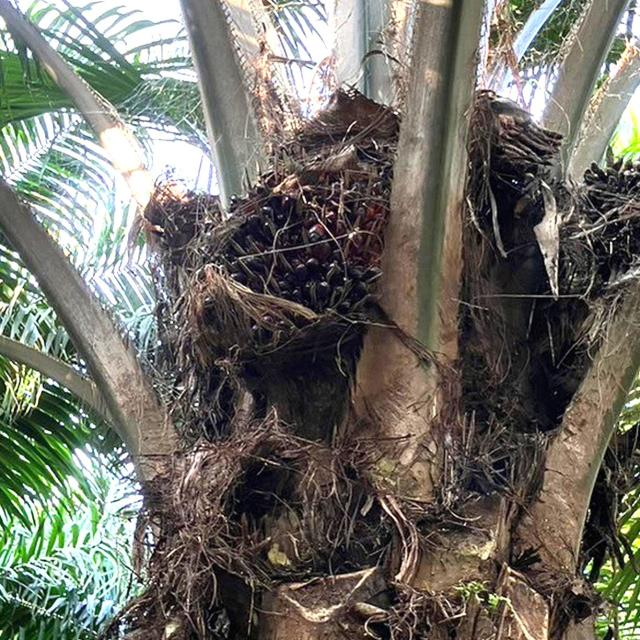ripe: (179, 157, 389, 379)
